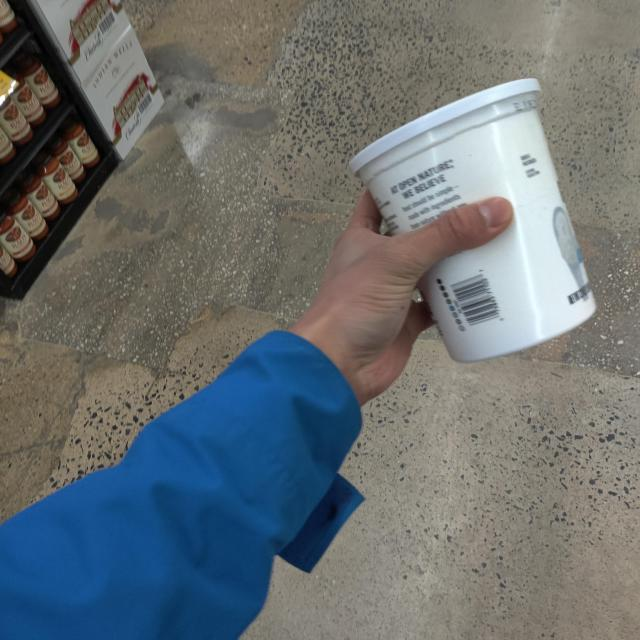Yogurt: (348, 76, 596, 362)
